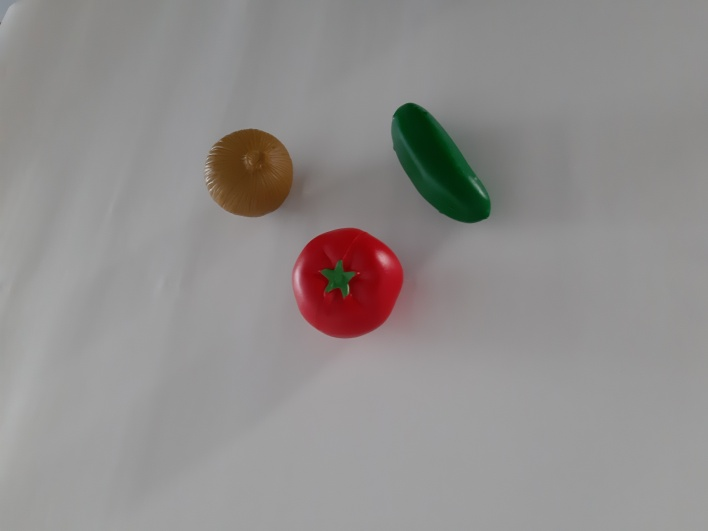cucumber: (376, 92, 511, 231)
onion: (195, 117, 301, 235)
tomato: (281, 217, 421, 346)
